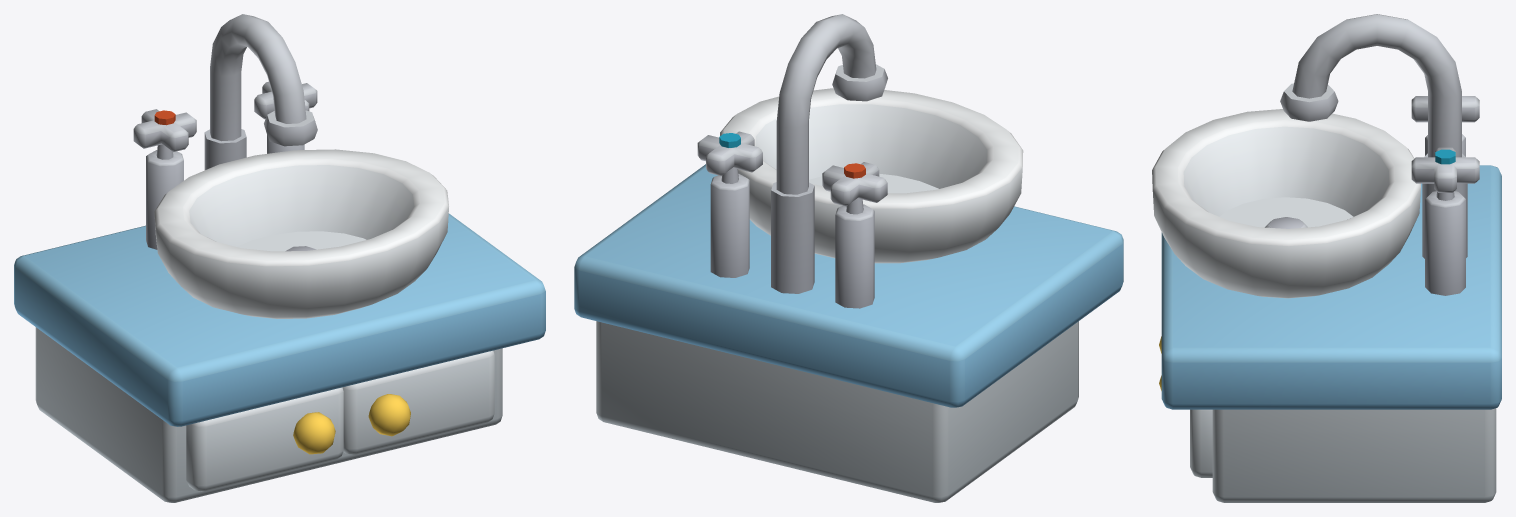
File: cabinet_bathroom.fbx
The picture shows the model from 3 angles, left to right: view 1: azimuth 30°, elevation 25°; view 2: azimuth 150°, elevation 25°; view 3: azimuth 270°, elevation 25°; orthographic projection. The views are drawn at different scales.
Parts seen in each view (by area): view 1: cabinet_bathroom; view 2: cabinet_bathroom; view 3: cabinet_bathroom.
Boxes of the visible parts, left/top/right/bottom form: cabinet_bathroom: left=14, top=14, right=545, bottom=502; cabinet_bathroom: left=574, top=14, right=1123, bottom=502; cabinet_bathroom: left=1152, top=14, right=1501, bottom=502.
Size of the model in its own units: 2 by 1.98 by 1.54.
